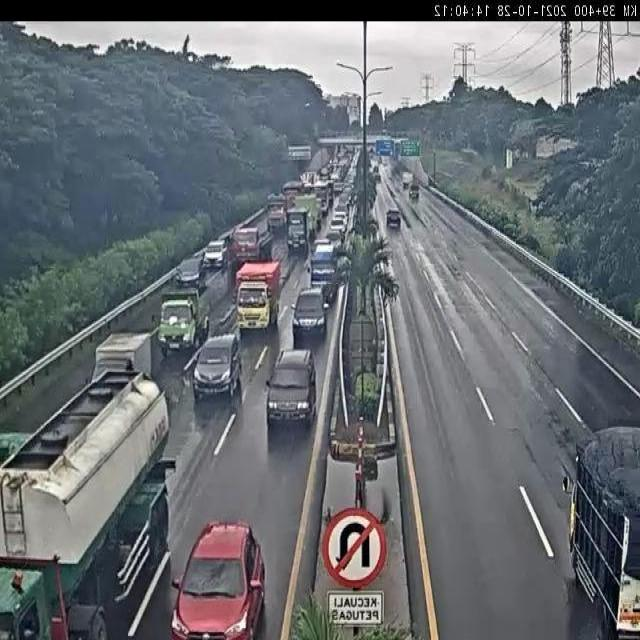Car: (169, 519, 266, 638), (182, 312, 261, 430), (264, 348, 317, 433), (291, 287, 327, 344), (176, 257, 204, 290), (386, 209, 401, 229)
Truck: (0, 362, 172, 637), (567, 428, 640, 639), (158, 286, 208, 358), (0, 565, 48, 639), (234, 260, 282, 331), (340, 469, 390, 534), (92, 332, 152, 386), (334, 258, 356, 390), (230, 225, 271, 271), (322, 257, 350, 308), (562, 469, 577, 549), (0, 432, 34, 466), (217, 328, 243, 372), (286, 208, 309, 255), (310, 260, 337, 291), (202, 239, 228, 269), (266, 201, 288, 236), (375, 308, 386, 378), (270, 239, 289, 278), (214, 304, 238, 334), (148, 457, 177, 480), (222, 234, 240, 271), (411, 158, 428, 191), (221, 258, 236, 294), (313, 183, 329, 216), (346, 189, 360, 224), (313, 238, 334, 261), (361, 454, 378, 481), (372, 256, 390, 281), (368, 136, 390, 156), (330, 210, 346, 237), (349, 147, 362, 180), (287, 145, 312, 162), (266, 193, 286, 214), (326, 224, 343, 247), (374, 156, 389, 180), (300, 171, 320, 189), (283, 188, 299, 210), (528, 196, 545, 216), (284, 179, 304, 196), (274, 131, 288, 155), (368, 210, 380, 237), (338, 259, 350, 285), (368, 180, 378, 210), (579, 158, 604, 170), (333, 180, 348, 198), (316, 137, 343, 147), (436, 170, 456, 183), (324, 177, 335, 200), (220, 231, 234, 249), (228, 225, 240, 245), (369, 158, 379, 180), (318, 128, 338, 139), (409, 183, 420, 201), (343, 144, 358, 157), (345, 180, 355, 199), (319, 167, 330, 184), (449, 264, 462, 278), (327, 132, 348, 140), (199, 247, 210, 262), (402, 173, 412, 189), (330, 171, 341, 185), (377, 137, 392, 147), (562, 475, 570, 492), (427, 175, 437, 188), (315, 216, 322, 234), (394, 144, 402, 159), (506, 149, 512, 169), (312, 120, 318, 140), (368, 147, 376, 159), (389, 186, 396, 197), (323, 301, 330, 311), (151, 314, 156, 324), (382, 128, 388, 136)
